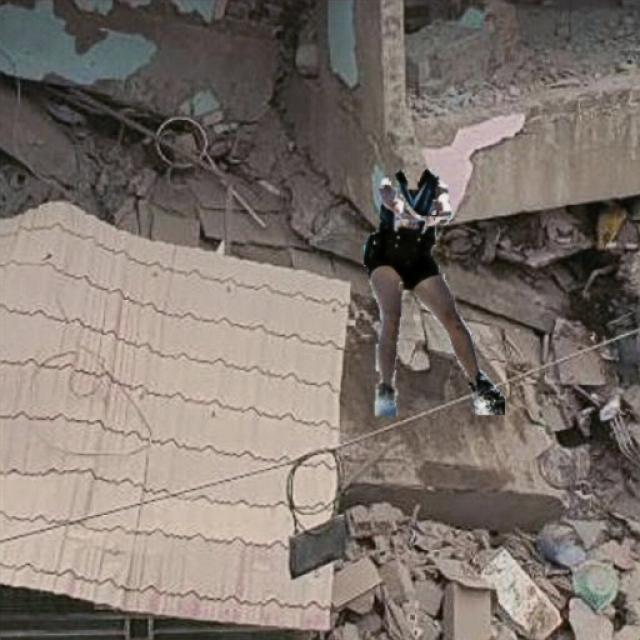Person in Rubble: (364, 169, 504, 415)
